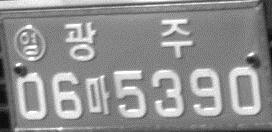0: (227, 66, 261, 116), (15, 72, 48, 121)
3: (151, 68, 184, 118)
5: (113, 70, 146, 118)
6: (50, 71, 82, 120)
9: (188, 68, 222, 117)
광주_D: (62, 17, 194, 61)
마: (83, 75, 112, 116)
영: (12, 25, 45, 61)
